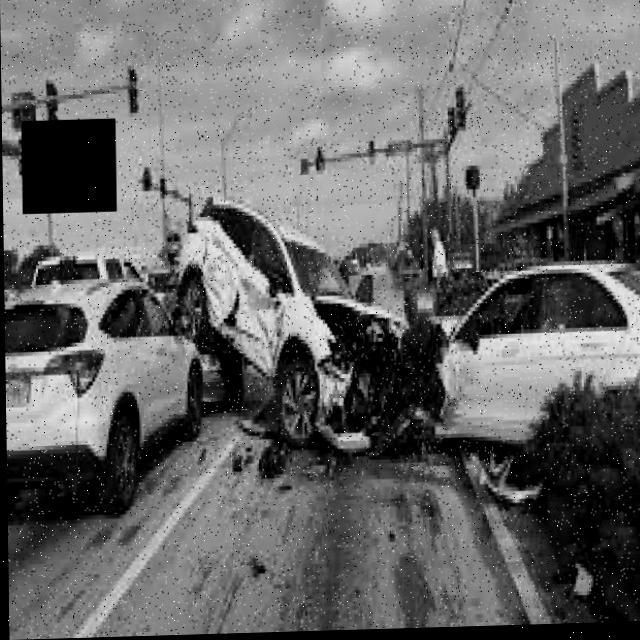multiple_accident: (16, 149, 597, 556)
